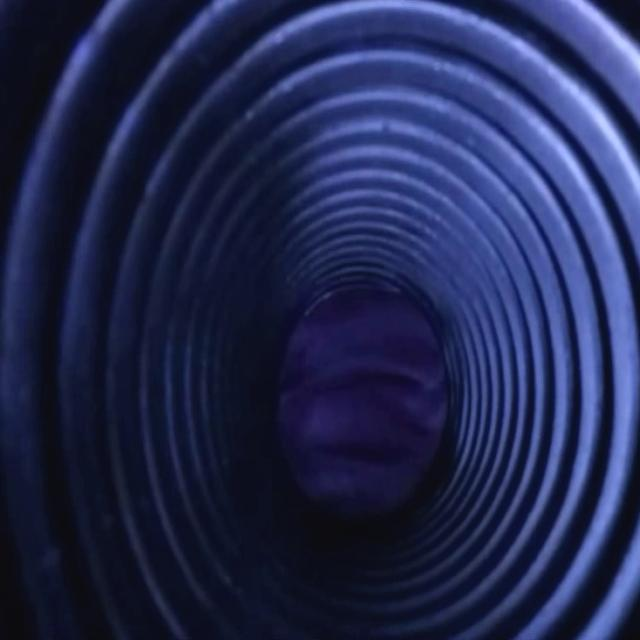block: (272, 272, 465, 518)
